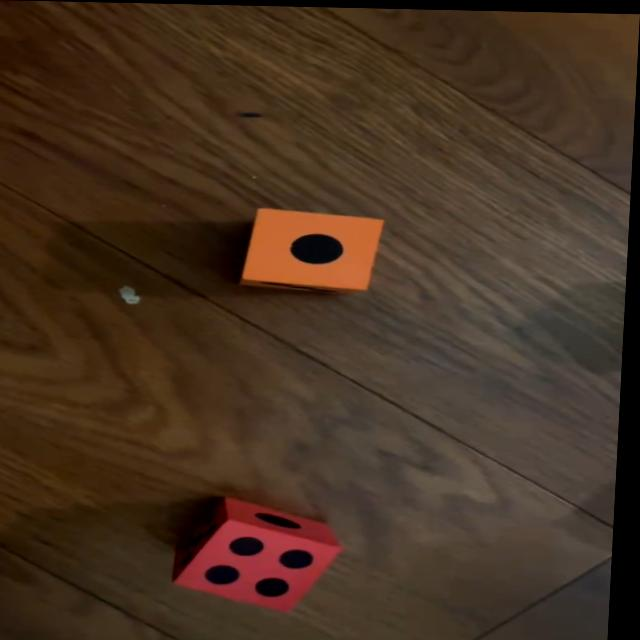red_block: (176, 496, 350, 612)
